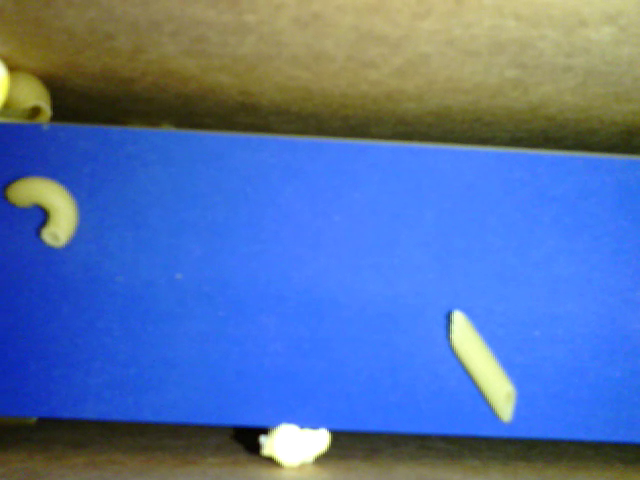elbow: (6, 176, 80, 249)
penne: (447, 307, 519, 423)
shell: (1, 69, 53, 122)
